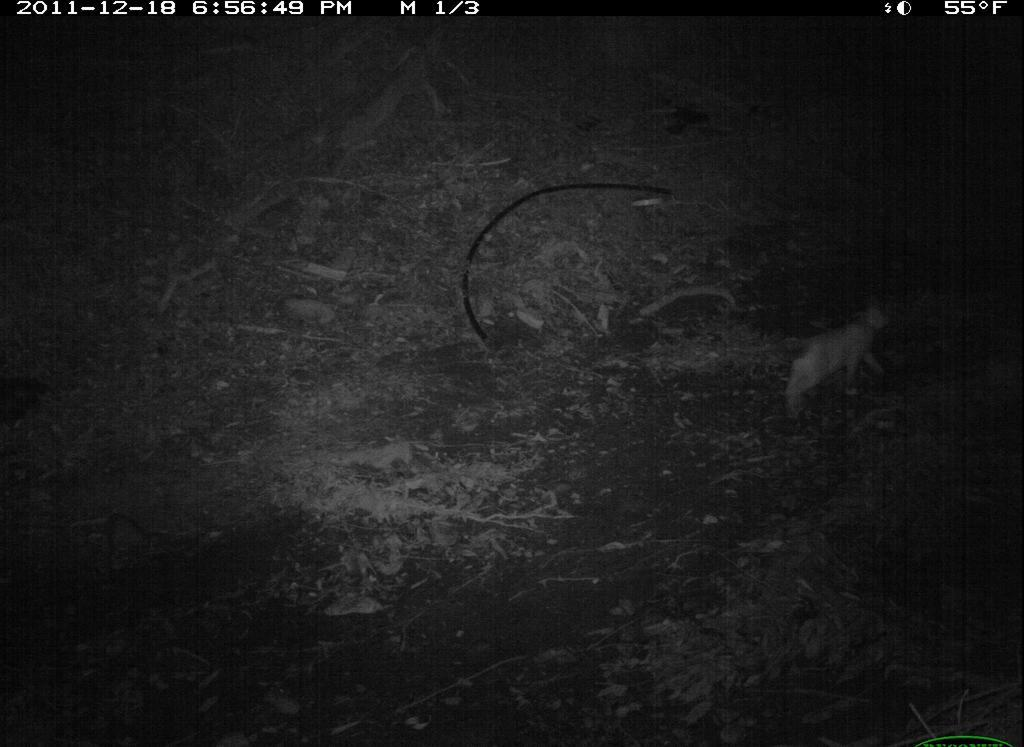cat: (772, 291, 912, 413)
